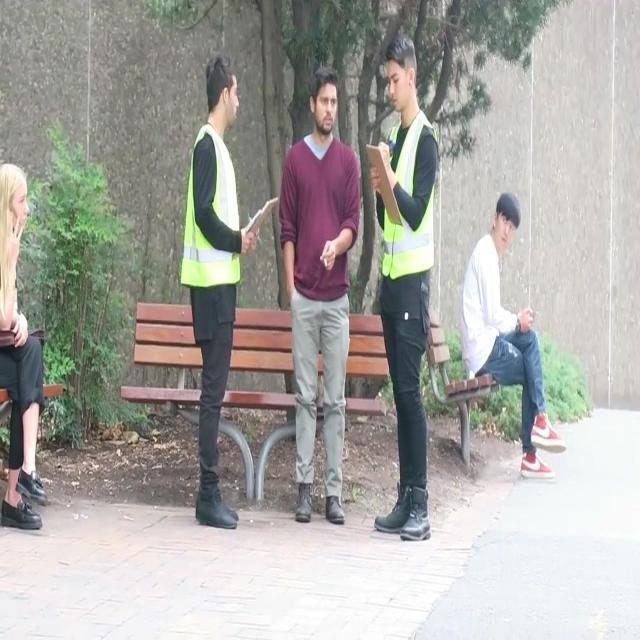NoHelmet: (204, 55, 246, 124), (305, 68, 348, 135)
NoVest: (277, 139, 363, 293)
Vest: (179, 130, 247, 283)
